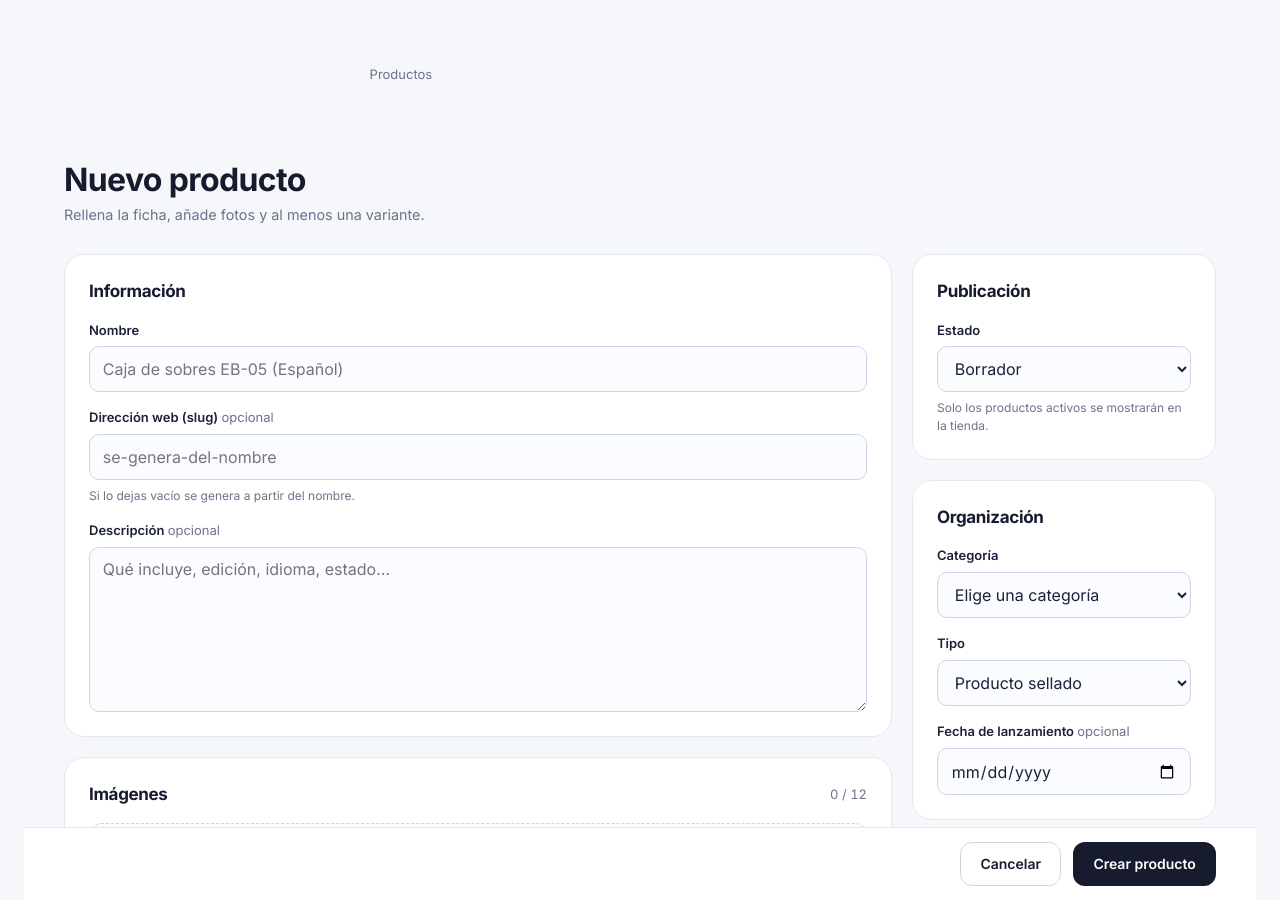
Scenario: ProductFormPageComponent › marks the variant field the API rejects
The width and height of the screenshot is (1280, 900).
Type "Copia" into the field with id "name" at (478, 369), box x1=89 y1=346 x2=867 y2=392
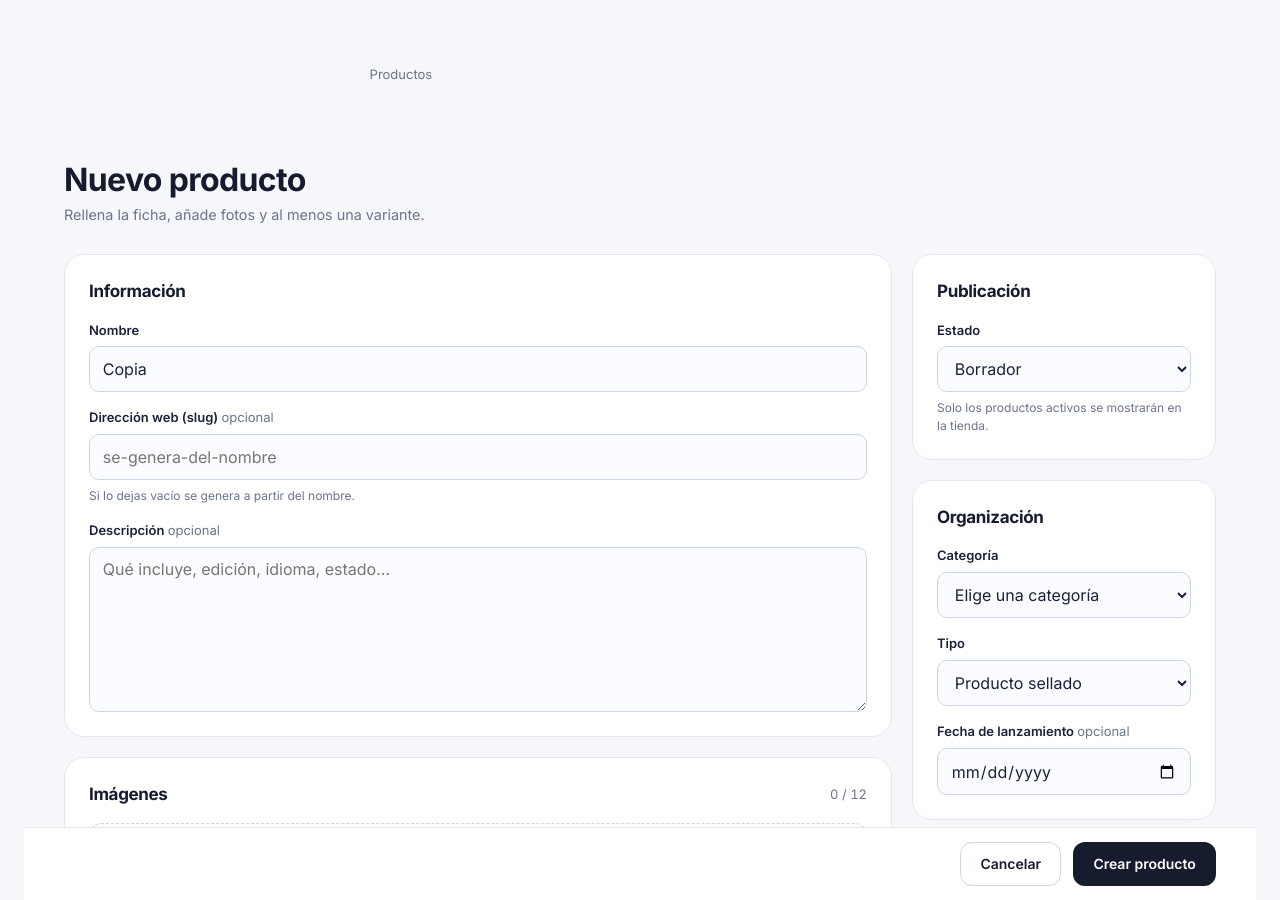
Select "Pokémon" in the dropdown with id "category" at (1064, 595), box x1=937 y1=572 x2=1191 y2=618
(page scrolled)
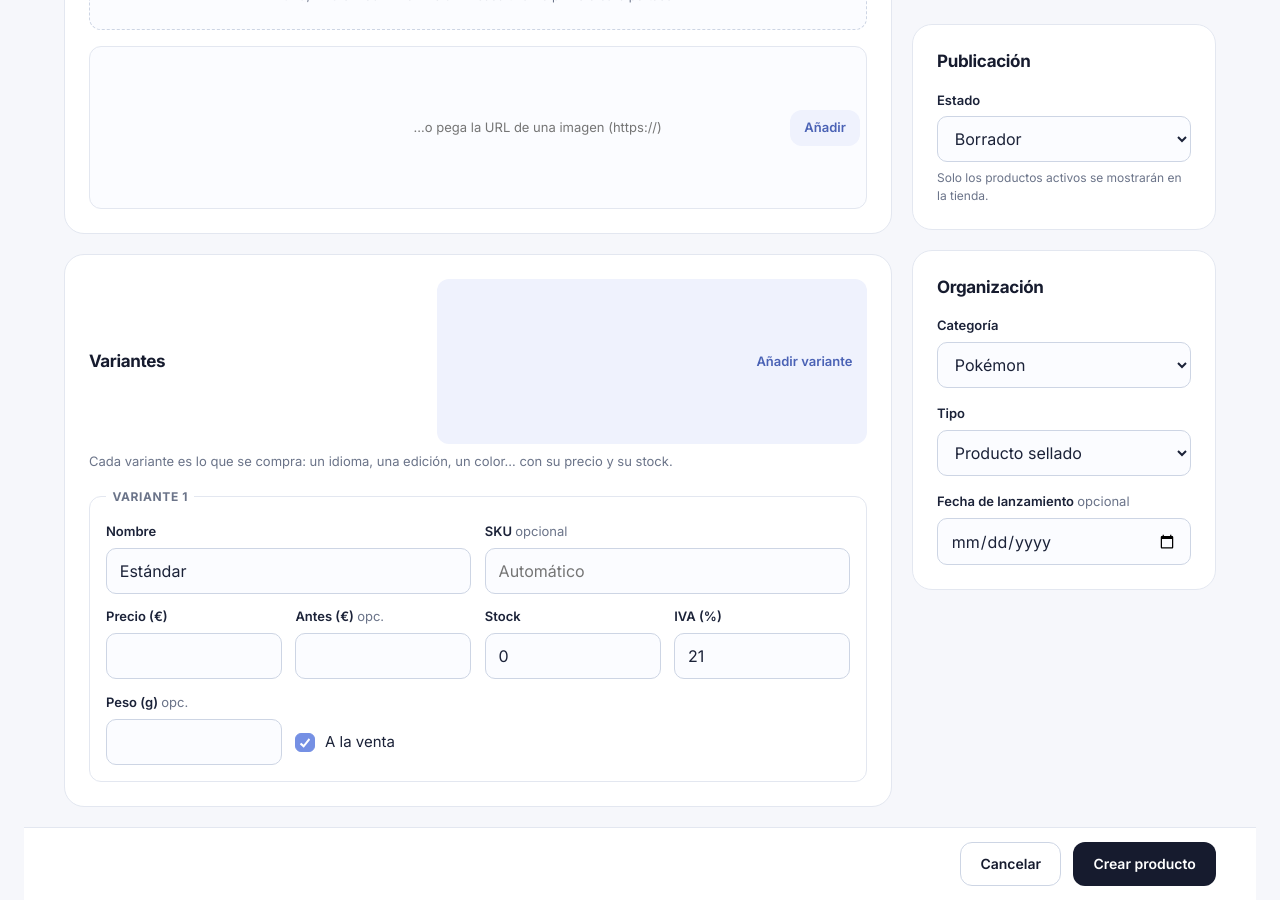
Type "5" into the number field labelled "Precio (€)" at (194, 656), box x1=106 y1=633 x2=282 y2=679
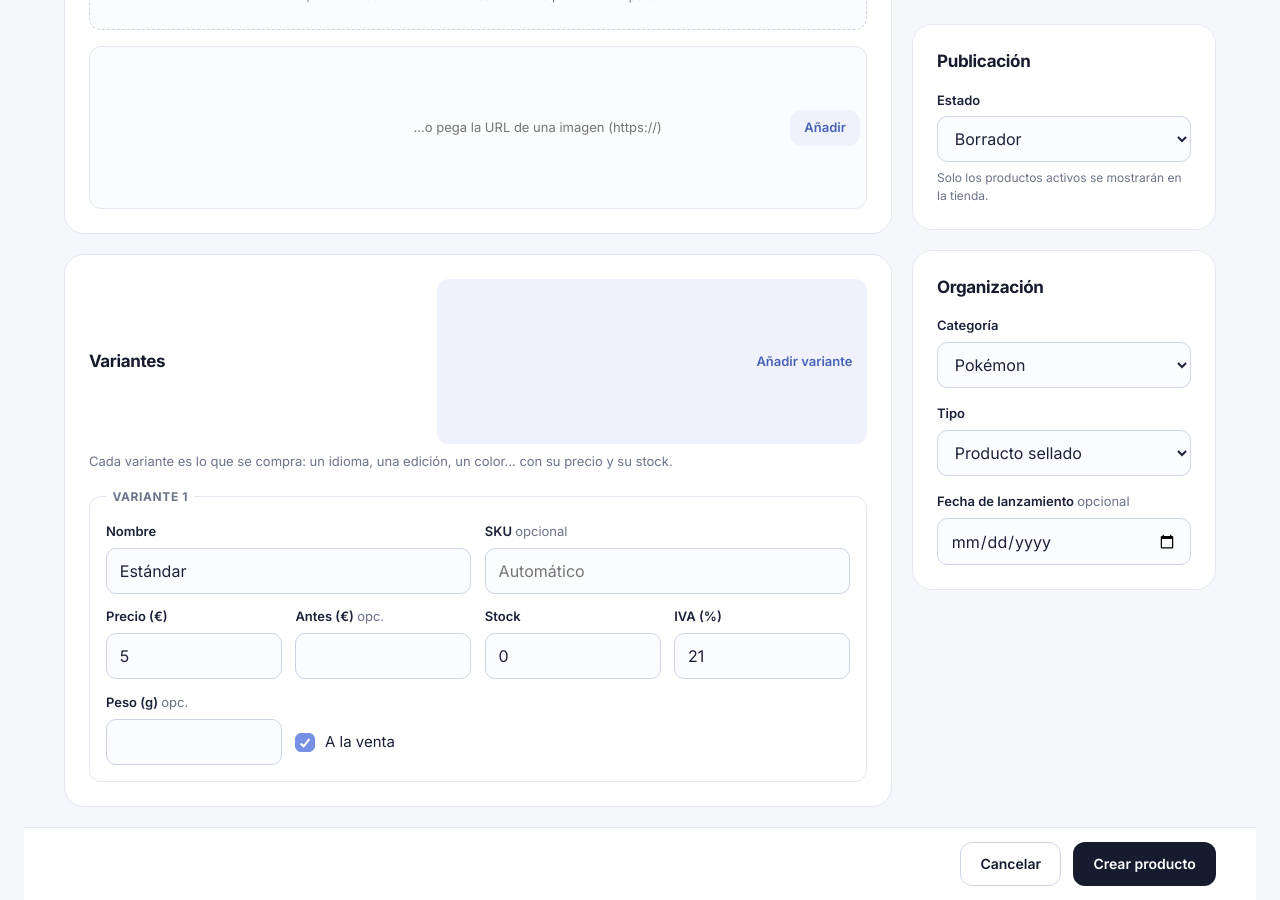
Type "ORIGINAL-1" into the field labelled "SKU opcional" at (667, 571), box x1=485 y1=548 x2=850 y2=594
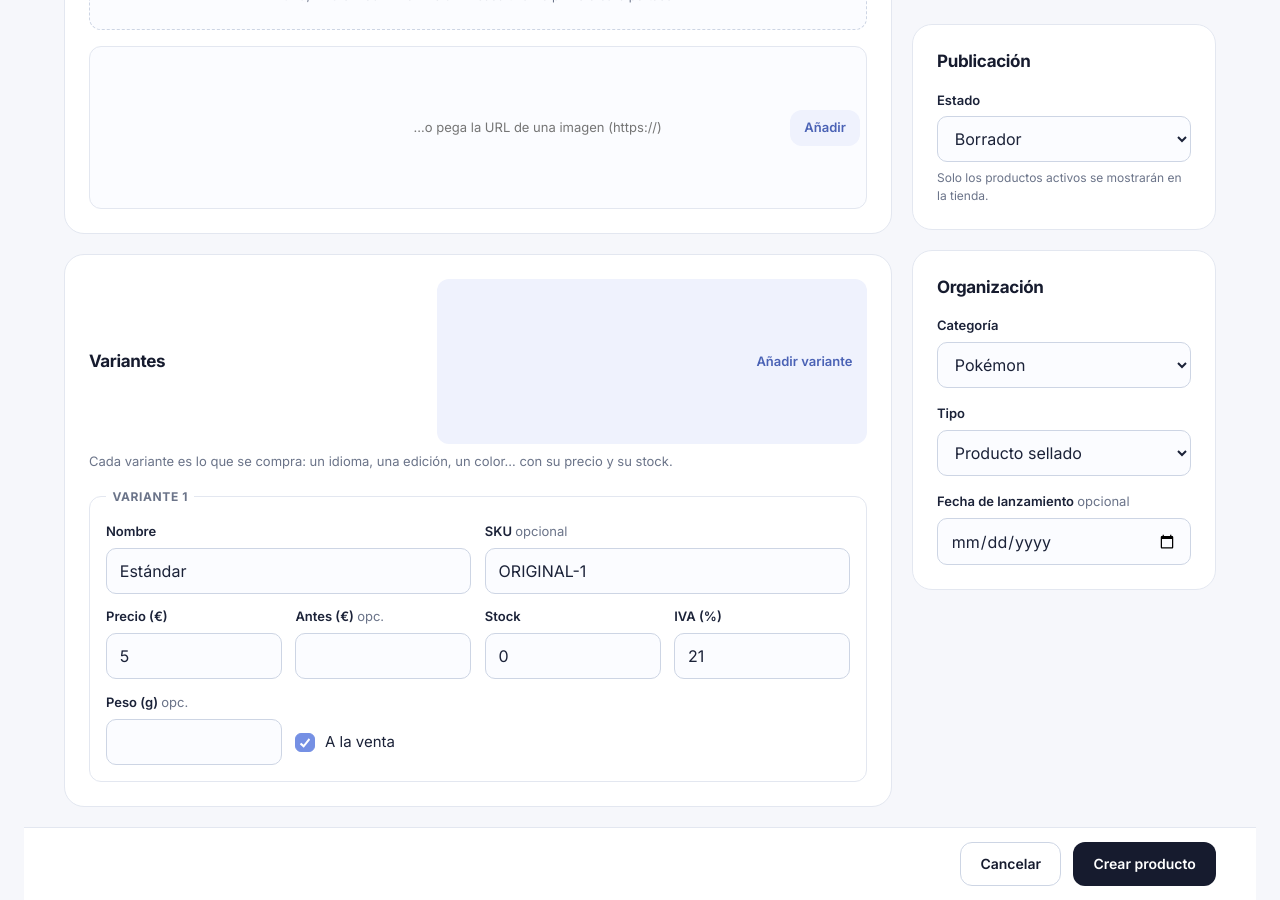
Click the submit button at (1145, 864), box x1=1073 y1=842 x2=1216 y2=886
(page scrolled)
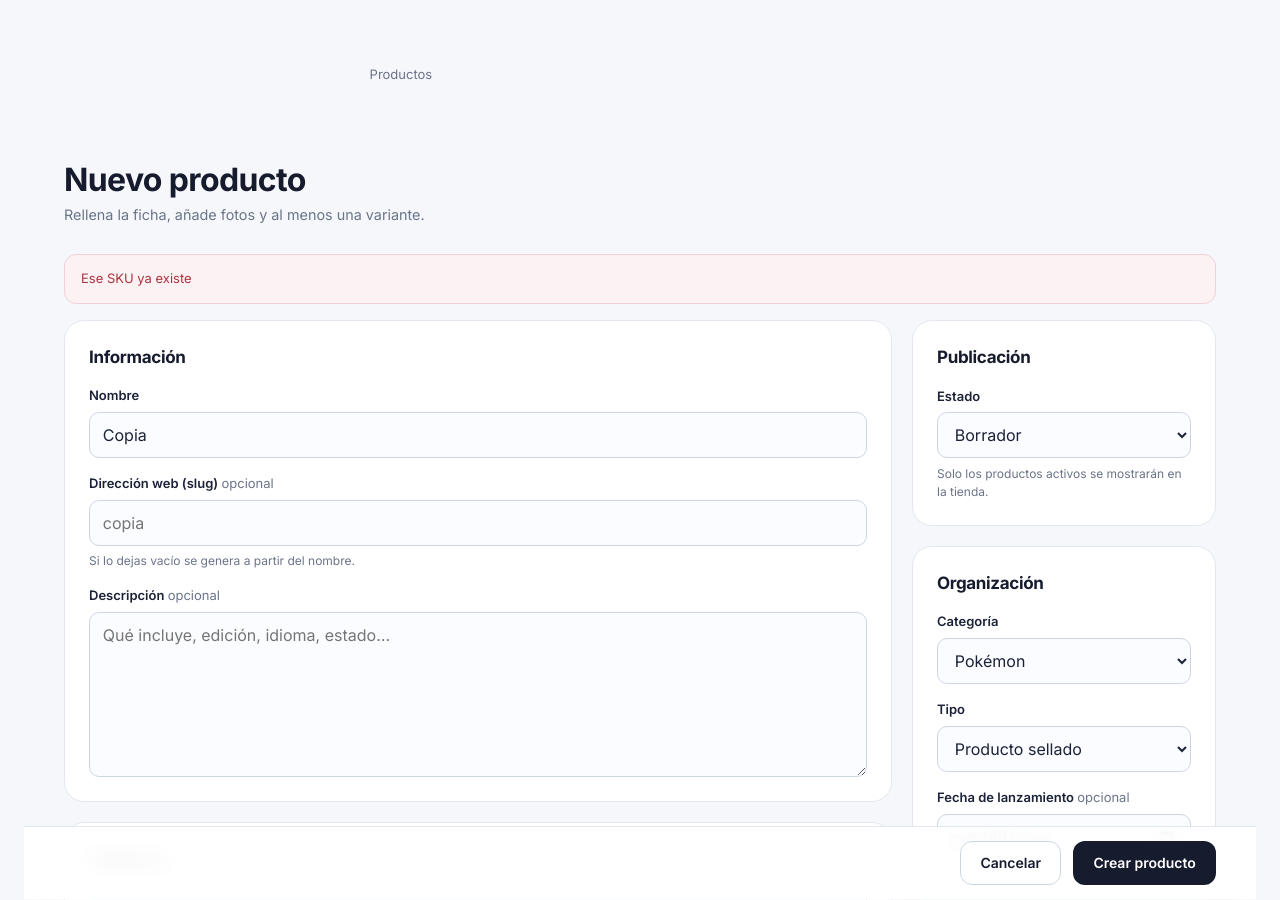
Expected: the message with class "notice--error" reads "Ese SKU ya existe", x1=81 y1=270 x2=192 y2=286
